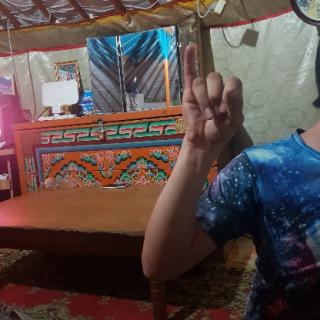MEEM: (177, 42, 248, 145)
